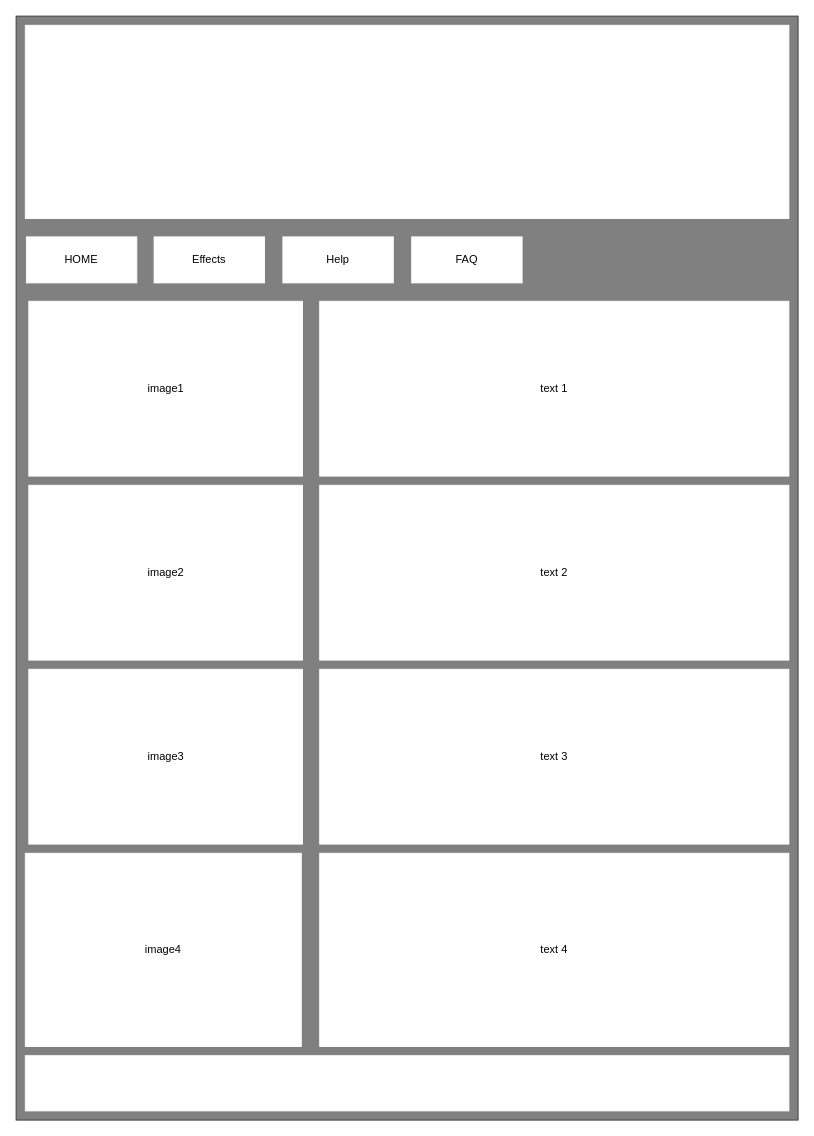
Some shapes in this 814 by 1136 pixel diagram are drawn without their labels. The centre of each missing label's shape, as x and y in pixels:
ALCOHOL: the point at 406,121
FOOTER: the point at 406,1083
